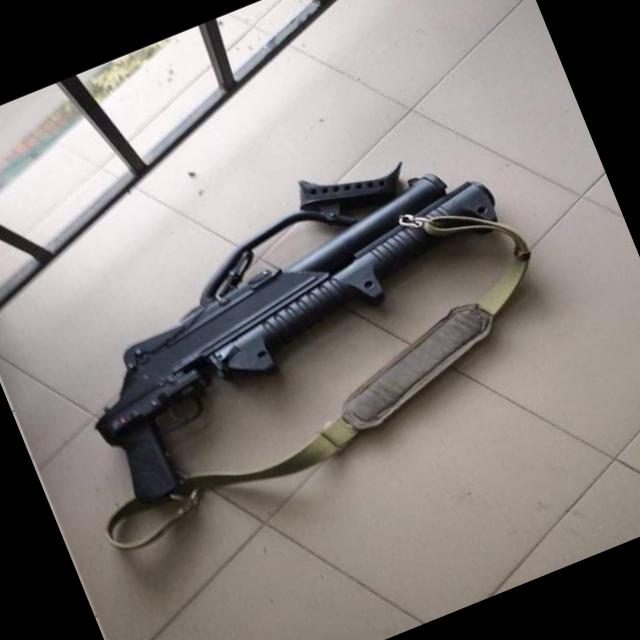Weapon: (43, 133, 550, 515)
